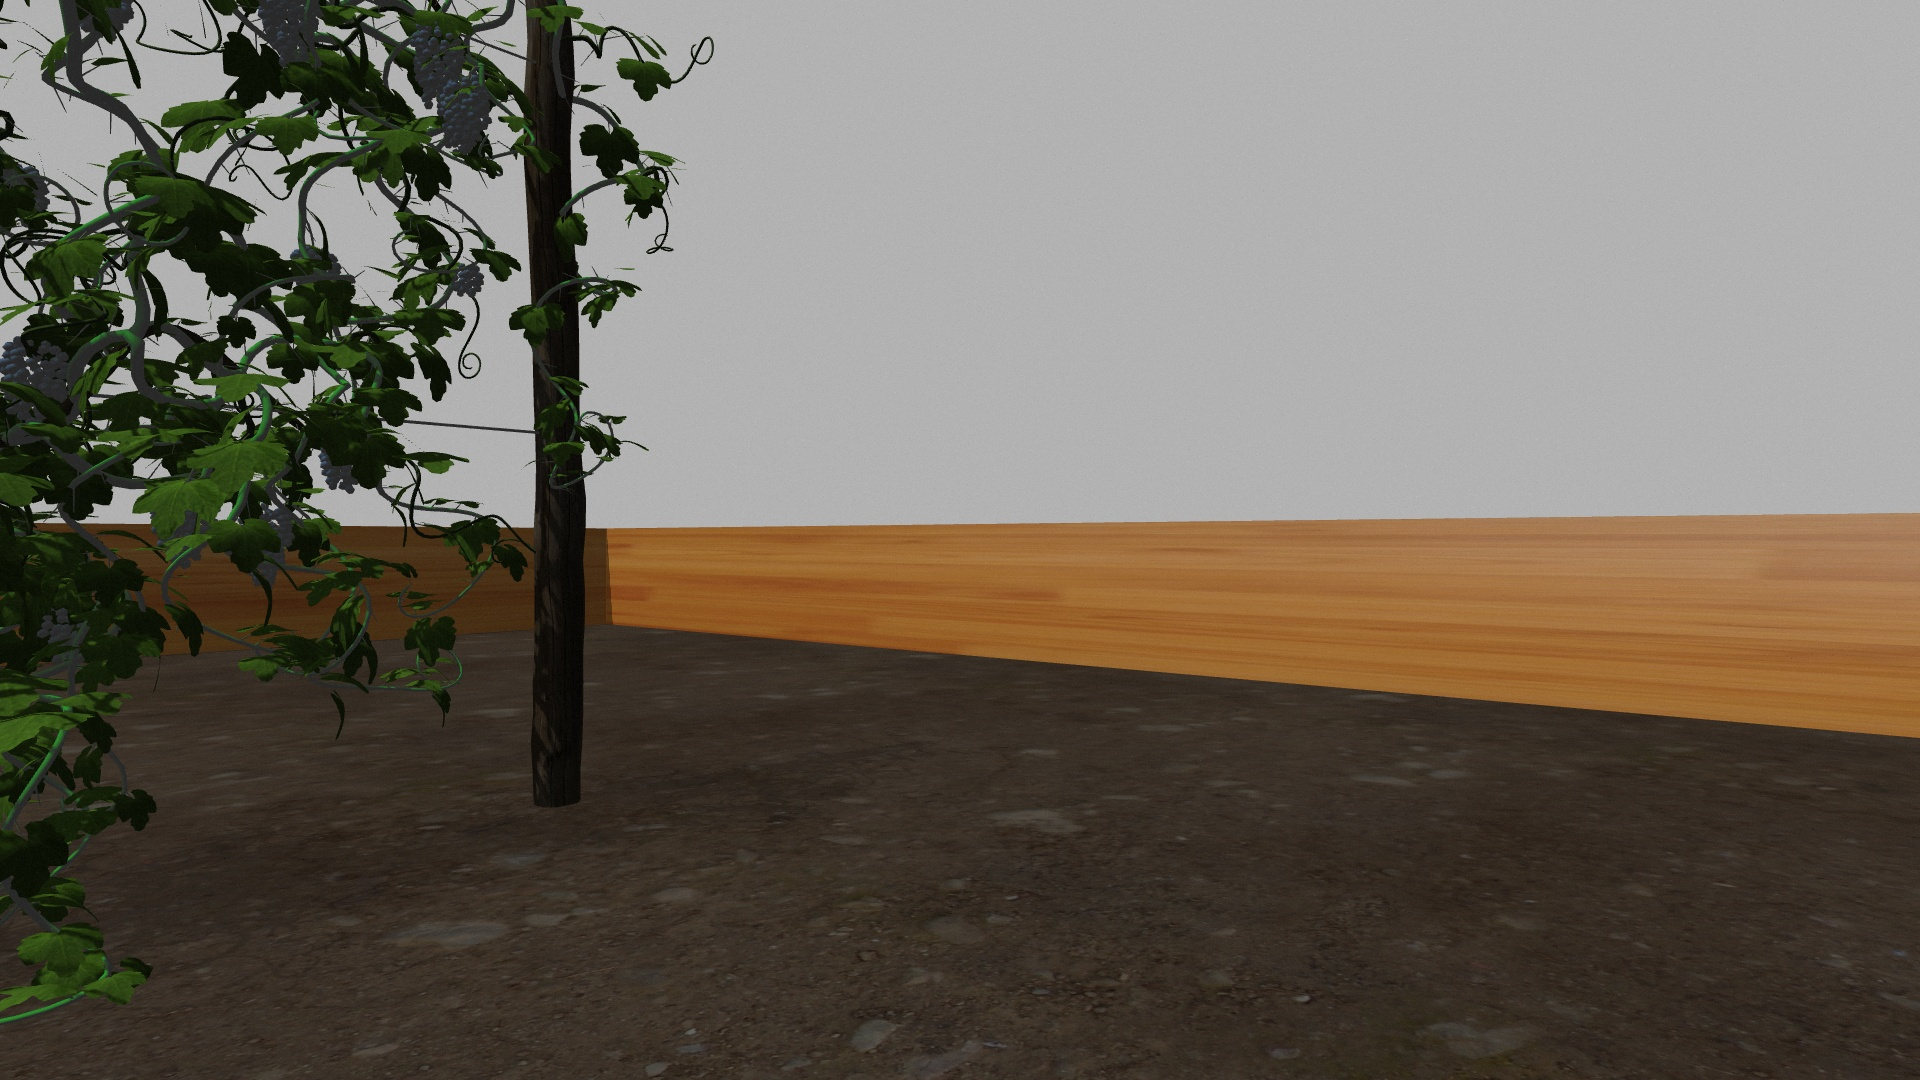grape: (4, 336, 70, 423), (410, 28, 464, 108), (256, 7, 320, 63), (443, 80, 488, 150), (446, 261, 489, 299)
